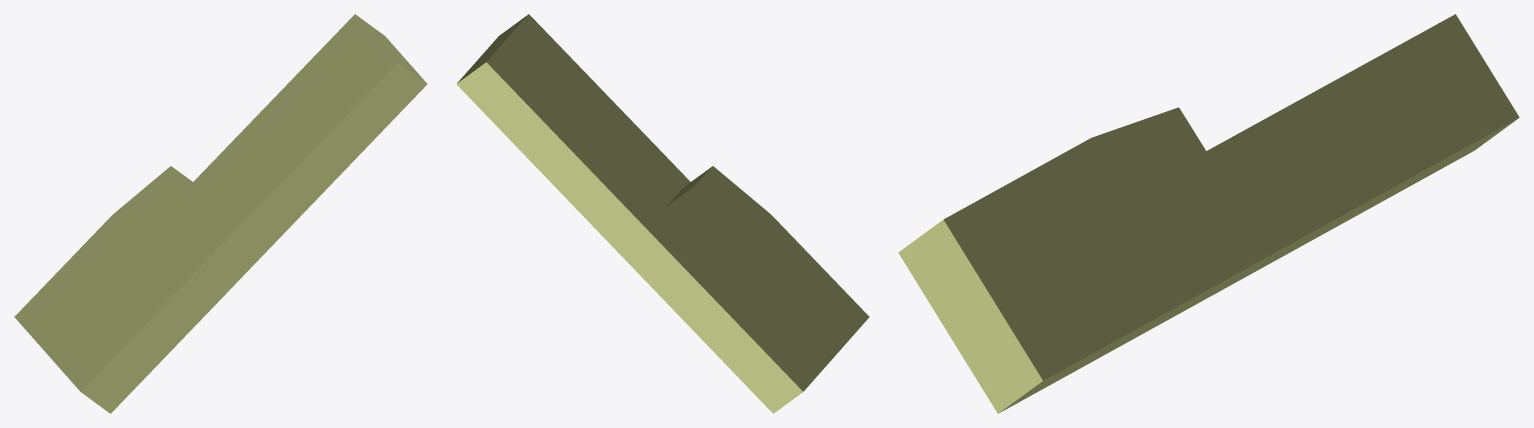
The picture shows the model from 3 angles, left to right: view 1: azimuth 30°, elevation 25°; view 2: azimuth 150°, elevation 25°; view 3: azimuth 330°, elevation 25°; orthographic projection. The views are drawn at different scales.
Parts seen in each view (by area): view 1: 0_3_0_1_2_1_1_2_1; view 2: 0_3_0_1_2_1_1_2_1; view 3: 0_3_0_1_2_1_1_2_1.
Part boxes in pixels (bbox=[...]): 0_3_0_1_2_1_1_2_1: bbox=[14, 14, 427, 413]; 0_3_0_1_2_1_1_2_1: bbox=[456, 14, 869, 413]; 0_3_0_1_2_1_1_2_1: bbox=[898, 14, 1519, 413].
Bounding box in the file's own units: 44.15 × 34.23 × 6.
